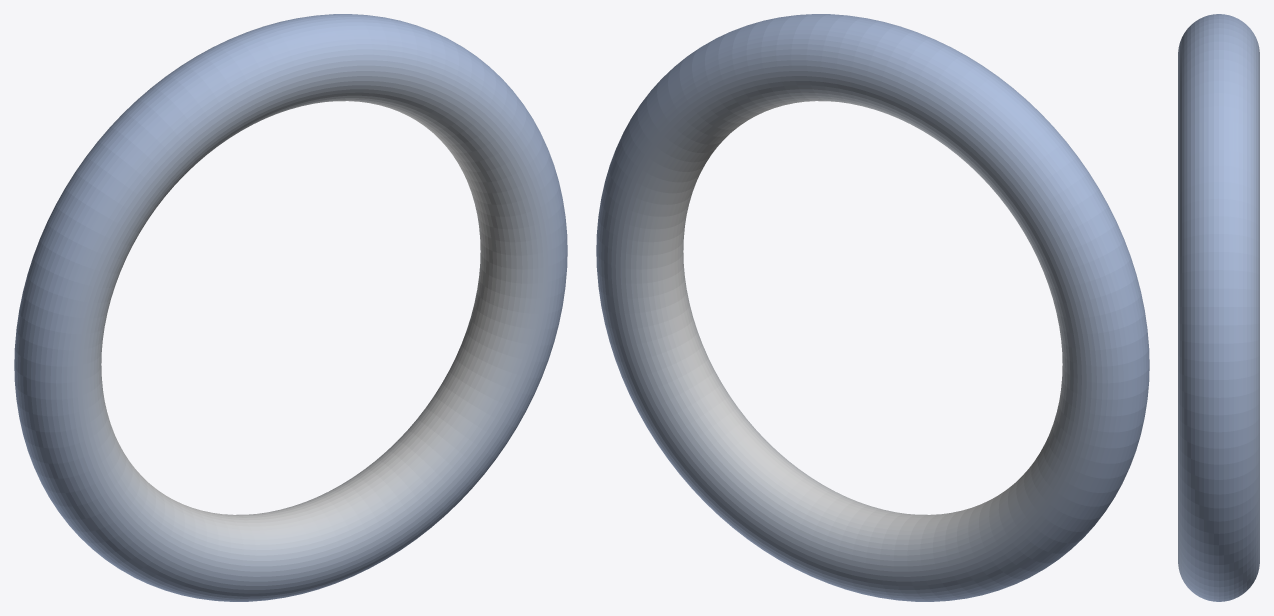
3 views of the same model, side by side, from view 1: azimuth 30°, elevation 25°; view 2: azimuth 150°, elevation 25°; view 3: azimuth 270°, elevation 25° (orthographic). The views are drawn at different scales.
Visible parts, largest first — view 1: world; view 2: world; view 3: world.
Boxes of the visible parts, left/top/right/bottom form: world: left=14, top=14, right=567, bottom=601; world: left=596, top=14, right=1149, bottom=601; world: left=1178, top=14, right=1259, bottom=601.
Bounding box in the file's own units: 27.11 × 27.11 × 3.77.
